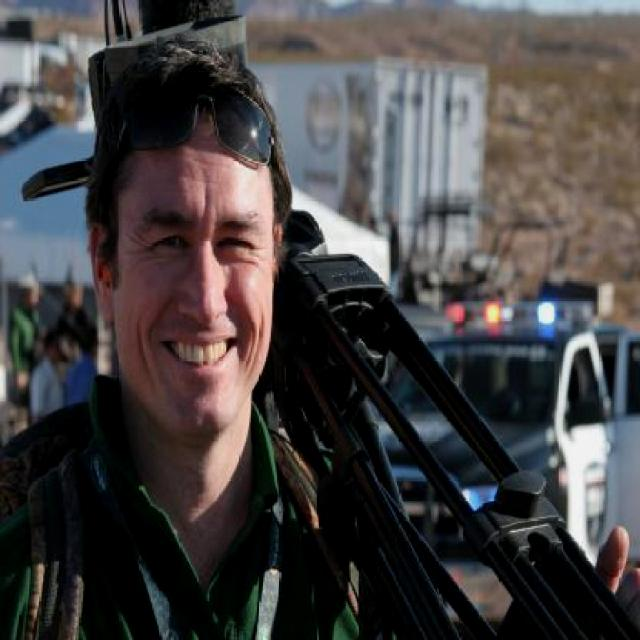face_nomask: (127, 209, 270, 380)
glasses: (112, 80, 278, 166)
head_nohelmet: (98, 31, 293, 183)
person: (0, 24, 354, 640)
